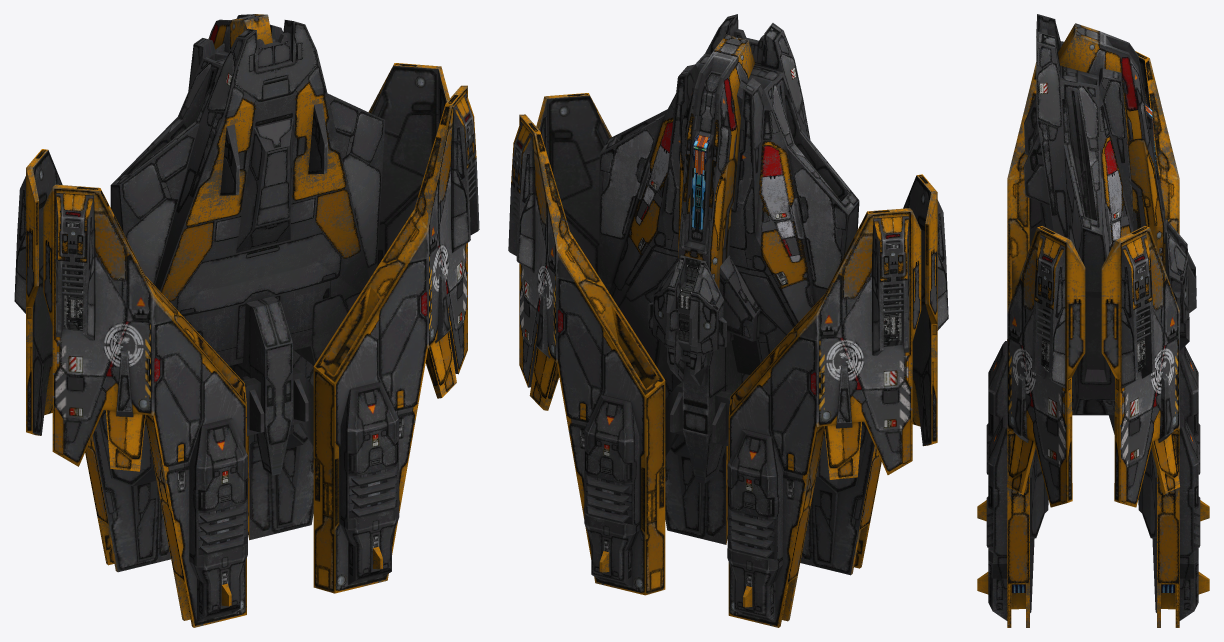
The model's file is SF_Fighter.FBX.
The picture shows the model from 3 angles, left to right: view 1: azimuth 30°, elevation 25°; view 2: azimuth 150°, elevation 25°; view 3: azimuth 270°, elevation 25°; orthographic projection. The views are drawn at different scales.
Visible parts, largest first — view 1: SciFi_Fighter; view 2: SciFi_Fighter; view 3: SciFi_Fighter.
Part boxes in pixels (left/top/right/bottom): SciFi_Fighter: left=14, top=14, right=479, bottom=627; SciFi_Fighter: left=508, top=14, right=948, bottom=627; SciFi_Fighter: left=977, top=14, right=1209, bottom=627.
Bounding box in the file's own units: 60.77 × 78.04 × 29.44.
